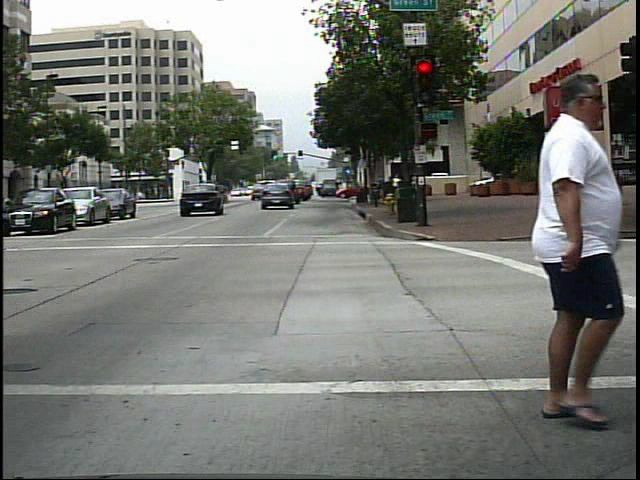person: (495, 69, 621, 428)
